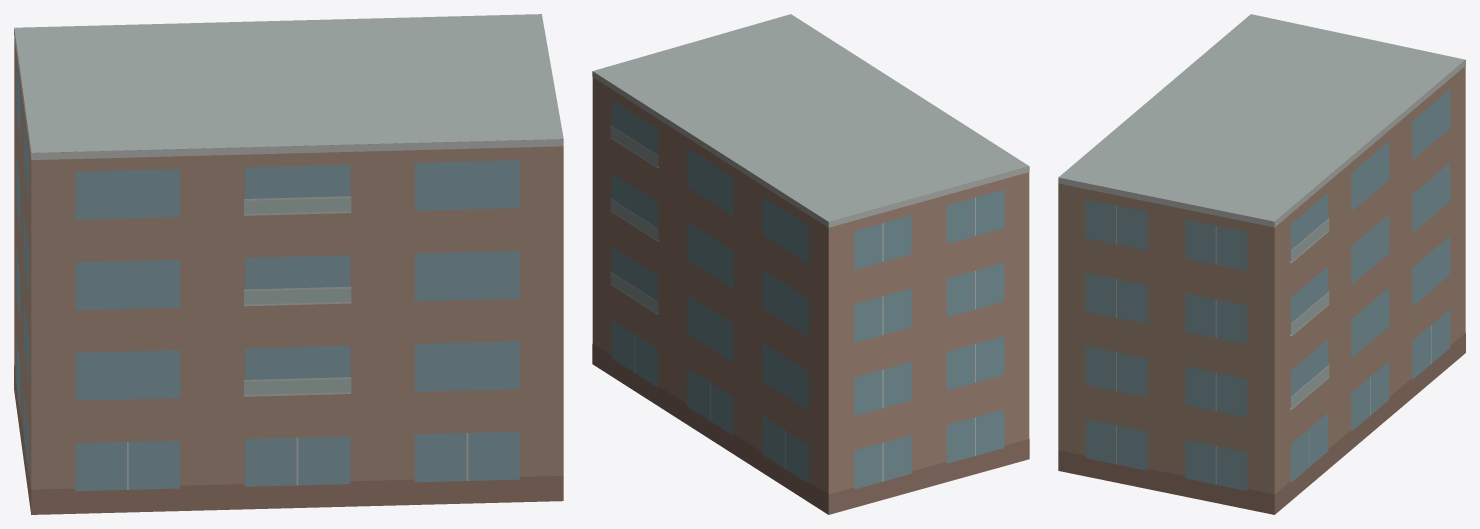
File: survey-upis-32842179.glb
The picture shows the model from 3 angles, left to right: view 1: azimuth 30°, elevation 25°; view 2: azimuth 150°, elevation 25°; view 3: azimuth 270°, elevation 25°; orthographic projection. The views are drawn at different scales.
Parts seen in each view (by area): view 1: survey-upis-32842179.tmp; view 2: survey-upis-32842179.tmp; view 3: survey-upis-32842179.tmp.
Part boxes in pixels (bbox=[...]): survey-upis-32842179.tmp: bbox=[14, 14, 563, 514]; survey-upis-32842179.tmp: bbox=[592, 14, 1029, 514]; survey-upis-32842179.tmp: bbox=[1058, 14, 1465, 514].
Bounding box in the file's own units: 18.38 × 12.1 × 15.25.
